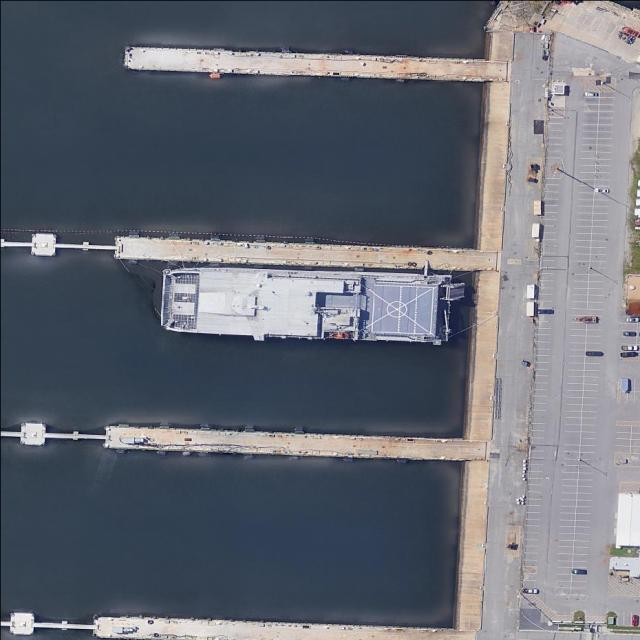Auxiliary Ships: (159, 262, 452, 348)
Dock: (106, 424, 464, 462), (125, 46, 487, 83), (116, 234, 477, 270)
